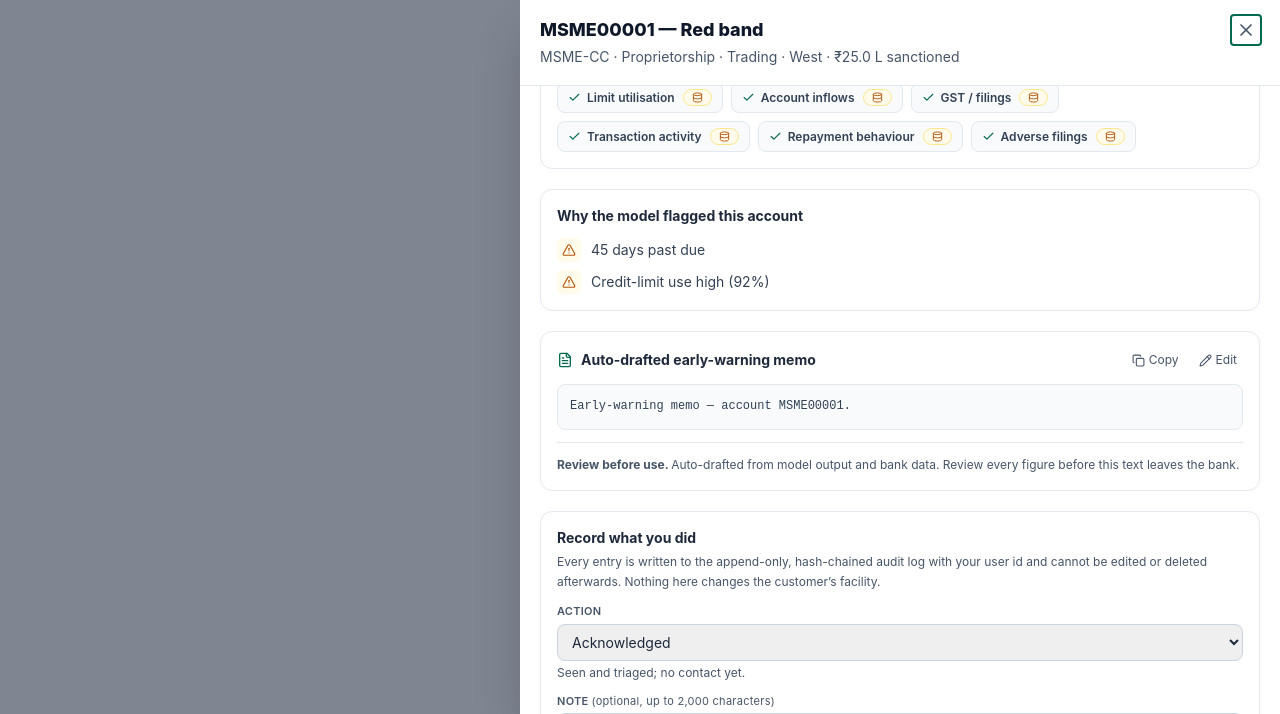
Test: Account detail › saves an edited memo through PUT and confirms it
(page scrolled)
Click the button "Edit": click(1218, 360) [1193,348,1243,372]
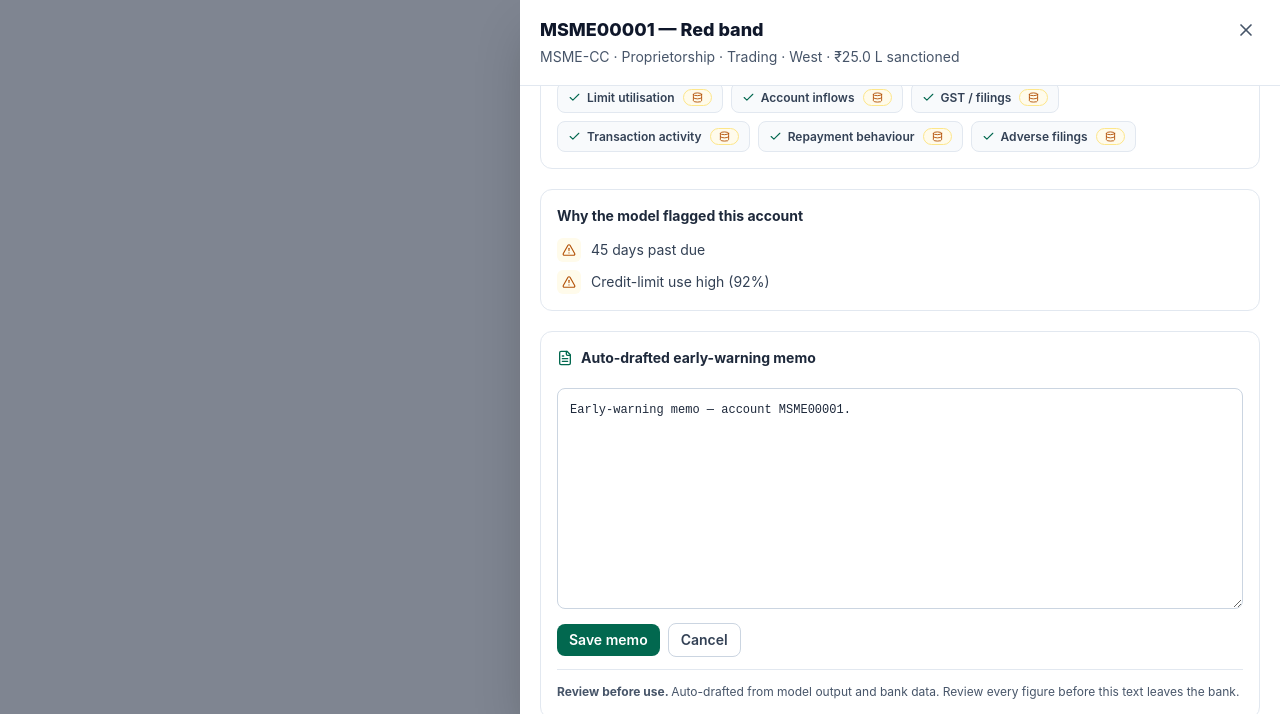
Replace the text in the text box named "Memo text" with "rewritten": (900, 499) [557,388,1243,609]
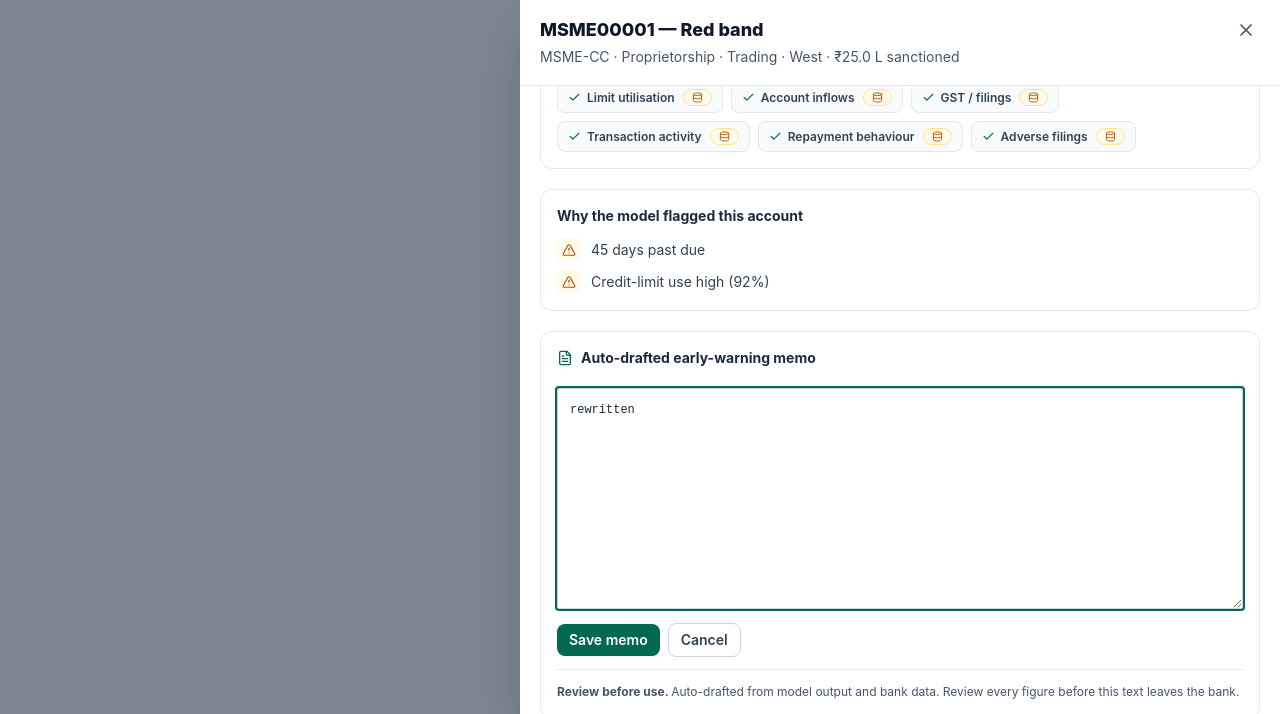
Click the button "Save memo": click(608, 640) [557,624,660,656]
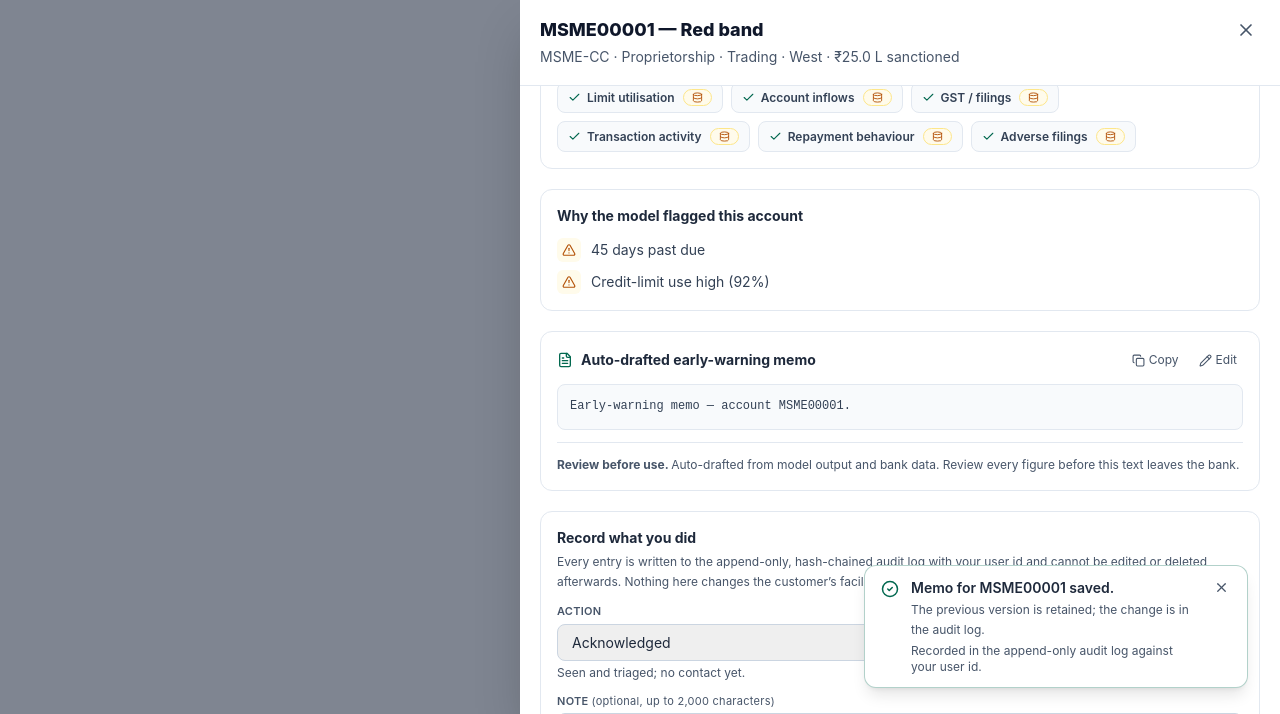
Now the text "Memo for MSME00001 saved." is shown, box [911,579,1114,596]
